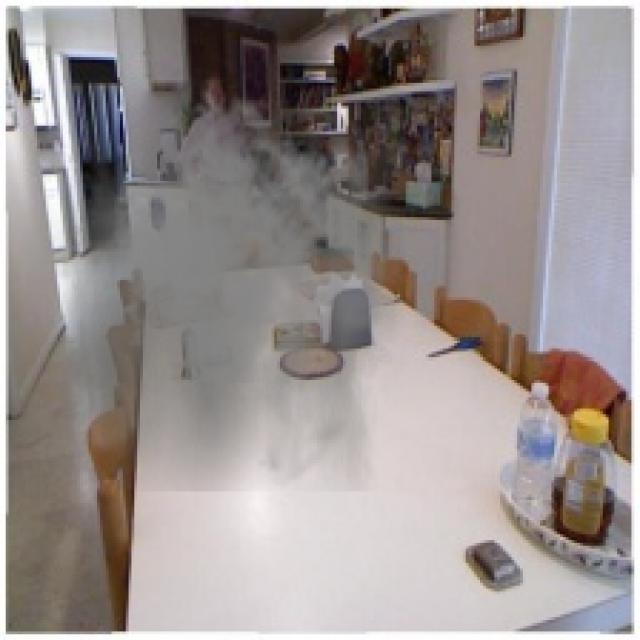smoke: (57, 86, 406, 491)
